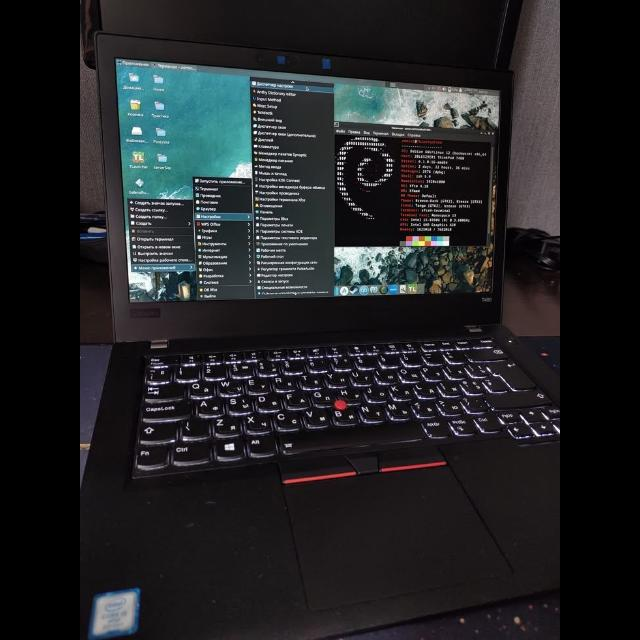laptop: (80, 31, 560, 639)
